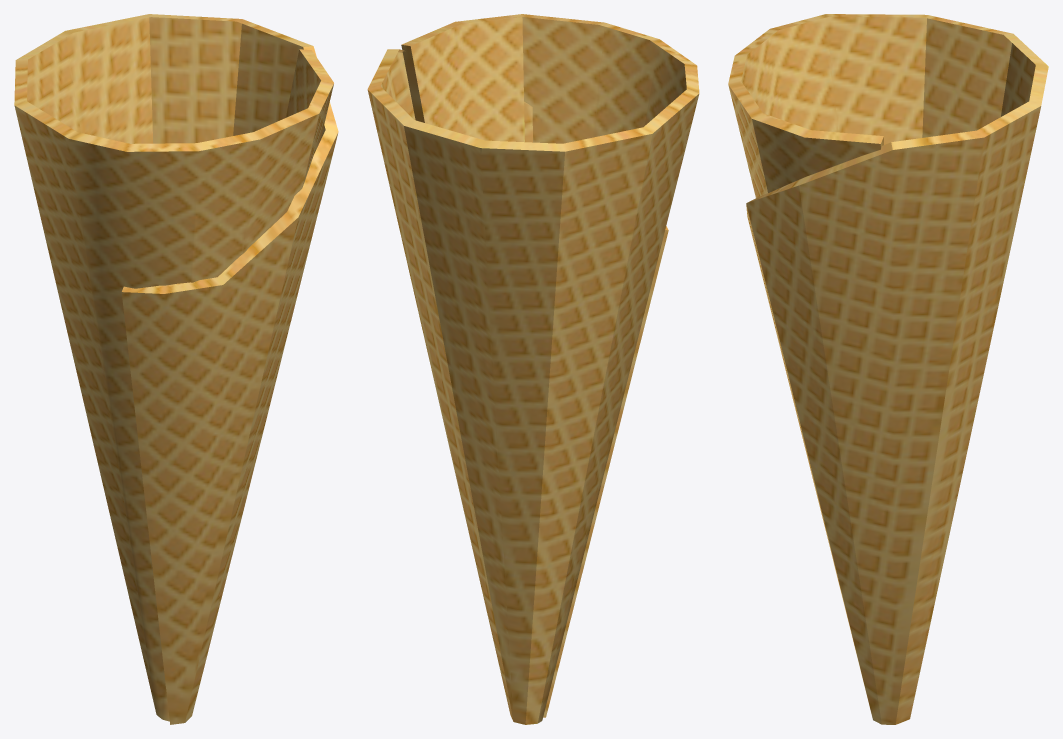
The picture shows the model from 3 angles, left to right: view 1: azimuth 30°, elevation 25°; view 2: azimuth 150°, elevation 25°; view 3: azimuth 270°, elevation 25°; orthographic projection.
Parts seen in each view (by area): view 1: ice_cream_cone_blue_Plane; view 2: ice_cream_cone_blue_Plane; view 3: ice_cream_cone_blue_Plane.
Boxes of the visible parts, <box> form: ice_cream_cone_blue_Plane: <box>14,14,338,724</box>; ice_cream_cone_blue_Plane: <box>367,14,699,724</box>; ice_cream_cone_blue_Plane: <box>728,14,1048,724</box>.
Bounding box in the file's own units: 0.0905 × 0.1967 × 0.0889.
1 material, 1 textured.
